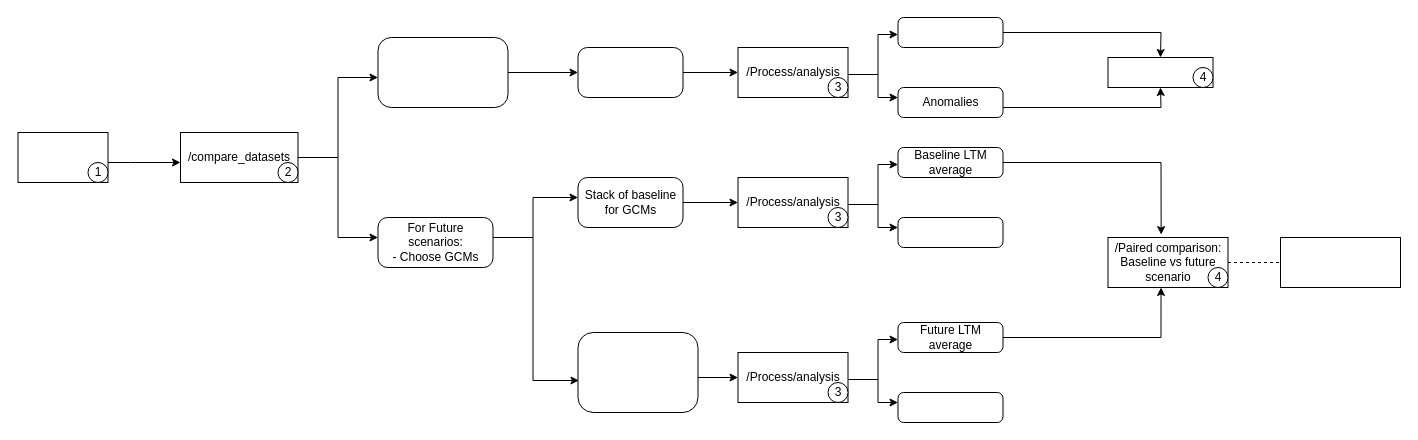
Some shapes in this 1418 by 440 pixel diagram are drawn without their labels. The box of each missing label's shape, as (x1, y1, x2, y2) in pixels:
/compare baseline periods: (1107, 56, 1213, 88)
/Ensemble: (1280, 236, 1400, 288)
/fetch_data: (17, 132, 108, 182)
Baseline anomaly: (897, 216, 1003, 248)
Baselines for each dataset: (577, 46, 683, 98)
For Historical datasets: - Choose datasets (e.g. CHIRPS, AgERA5,...): (377, 36, 508, 108)
Future anomalies: (897, 392, 1003, 422)
LTM average: (897, 16, 1003, 48)
Stack of future data respect to: -GCM -SSP -Period: (577, 332, 698, 412)
